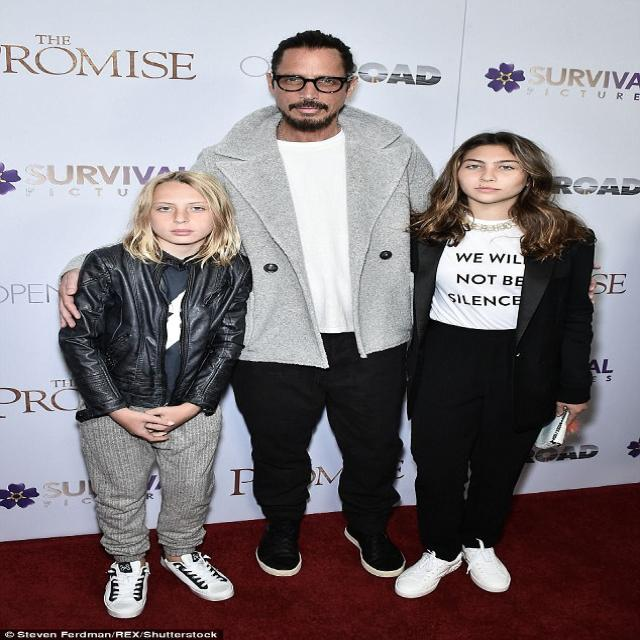body: (53, 26, 604, 582), (386, 127, 604, 605), (49, 168, 260, 624)
